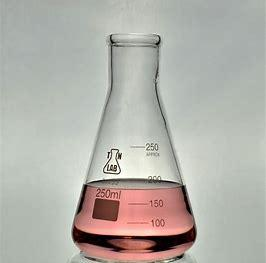Titrarion: (68, 27, 201, 261)
